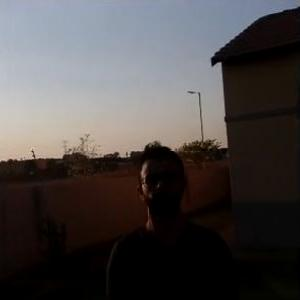follow: (102, 134, 242, 299)
